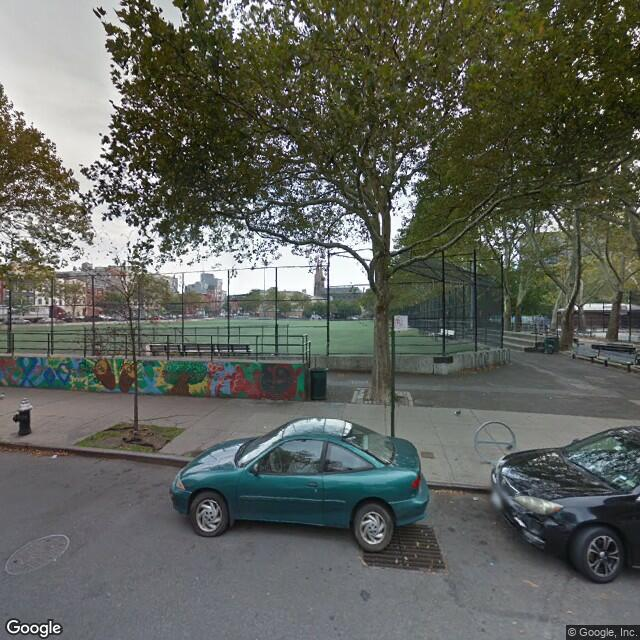litter: (449, 409, 465, 418), (48, 451, 66, 458), (467, 495, 482, 503), (397, 557, 410, 564), (417, 528, 431, 534), (413, 543, 433, 547)
